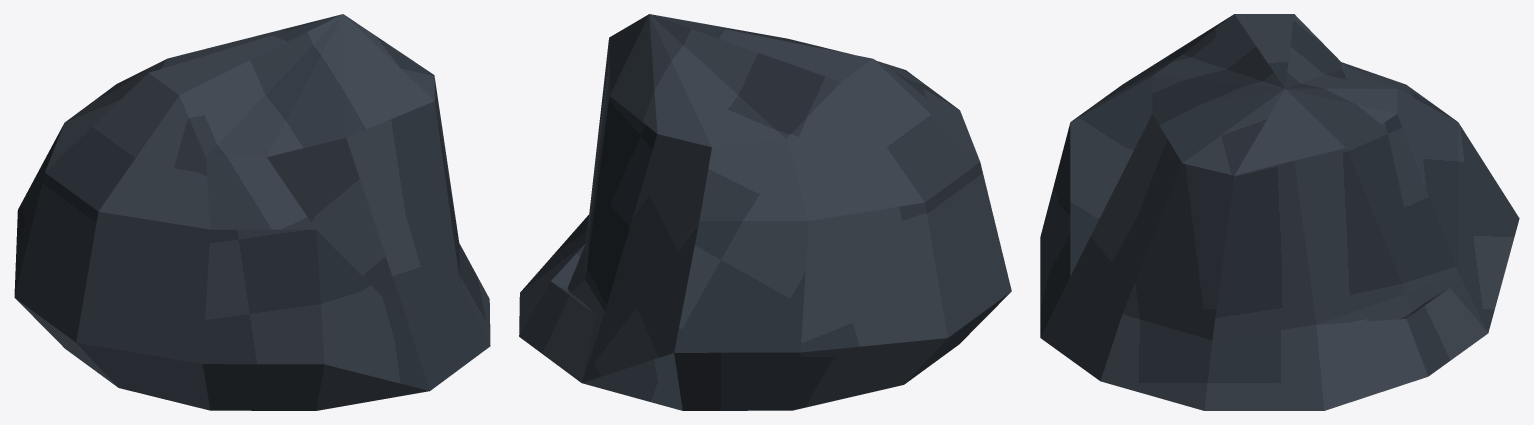
File: stone.fbx
3 views of the same model, side by side, from view 1: azimuth 30°, elevation 25°; view 2: azimuth 150°, elevation 25°; view 3: azimuth 270°, elevation 25° (orthographic). The views are drawn at different scales.
Visible parts, largest first — view 1: sphere; view 2: sphere; view 3: sphere.
Part boxes in pixels (x1,y1,x2,y2): sphere: [14, 14, 490, 410]; sphere: [519, 14, 1011, 410]; sphere: [1040, 14, 1519, 410].
Bounding box in the file's own units: 38.76 × 25.31 × 40.
1 material, 1 textured.
